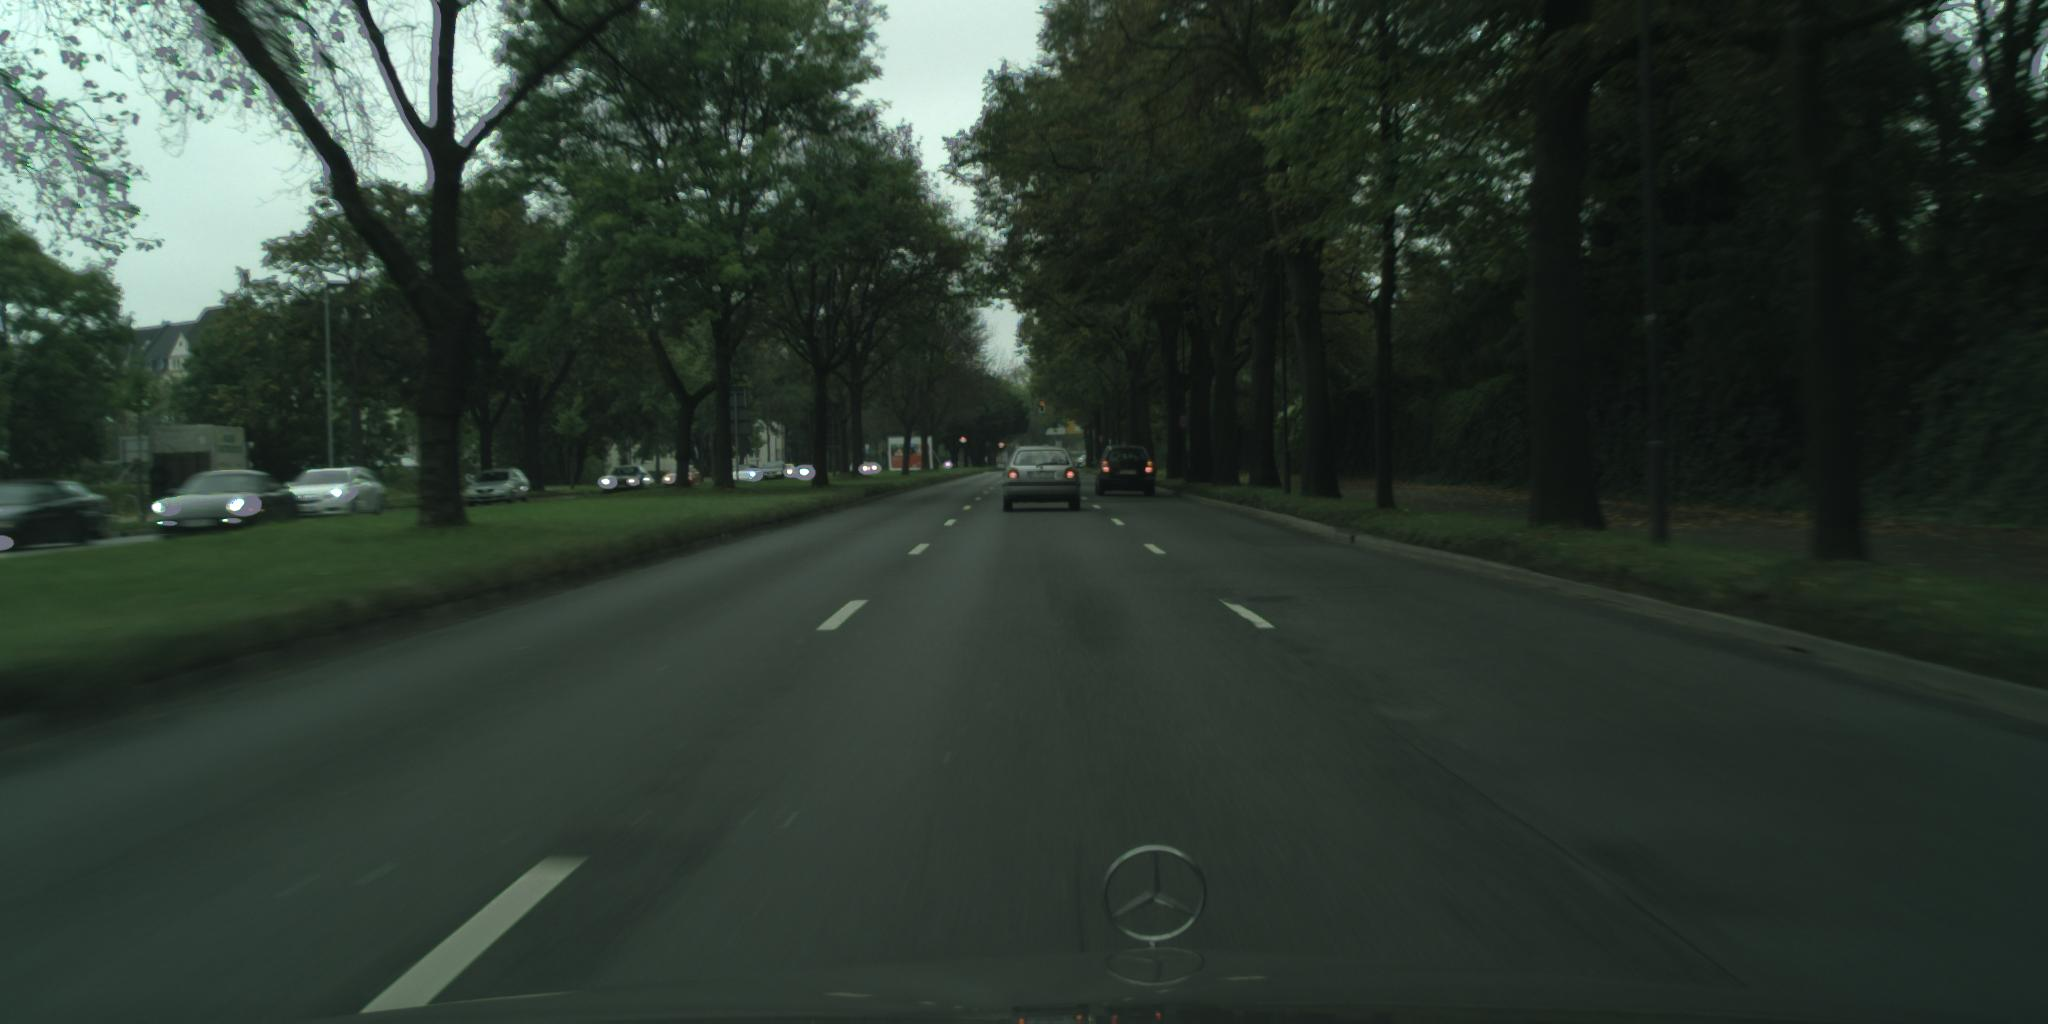car: (152, 470, 300, 539), (1, 478, 112, 554), (283, 466, 392, 519), (998, 449, 1085, 513), (1096, 445, 1157, 498), (462, 470, 532, 507), (600, 465, 654, 502), (662, 468, 707, 490), (858, 464, 884, 478)
truck: (149, 426, 259, 509)
